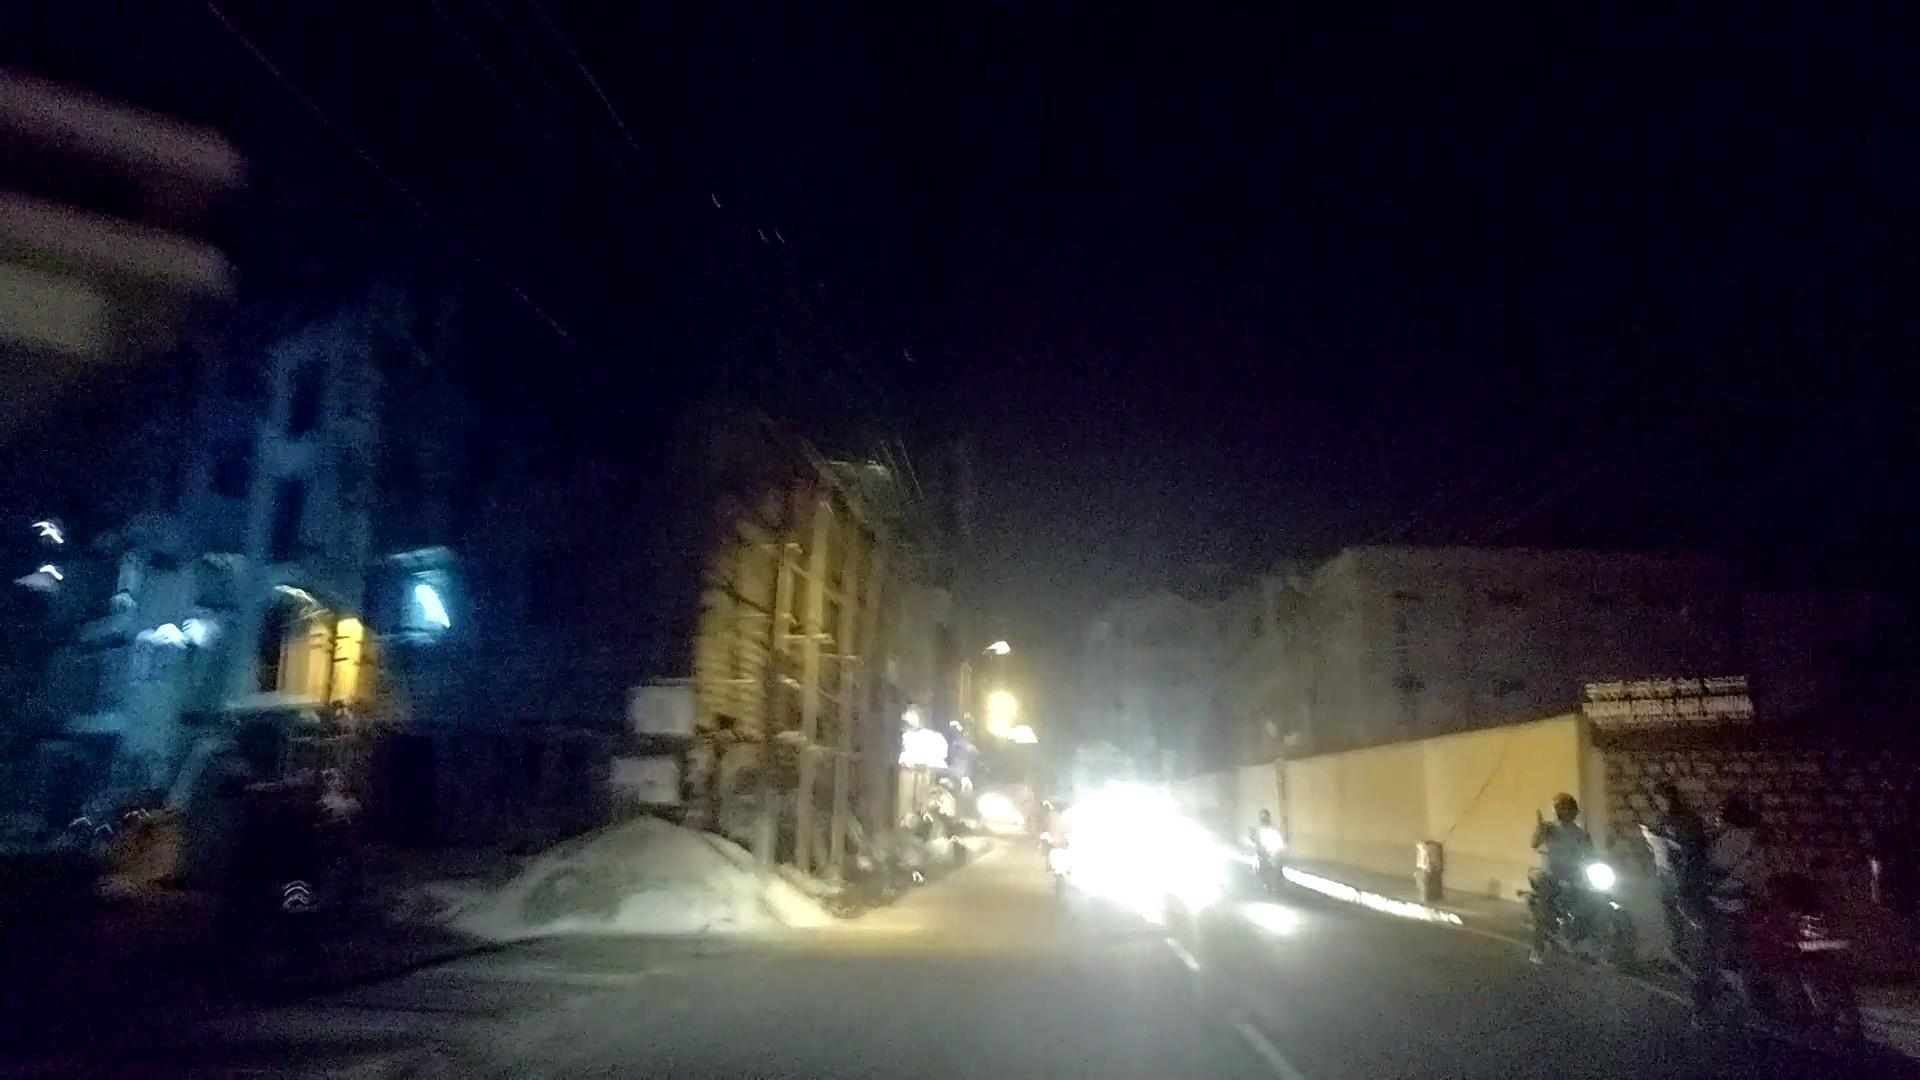on: (750, 492, 1271, 963)
